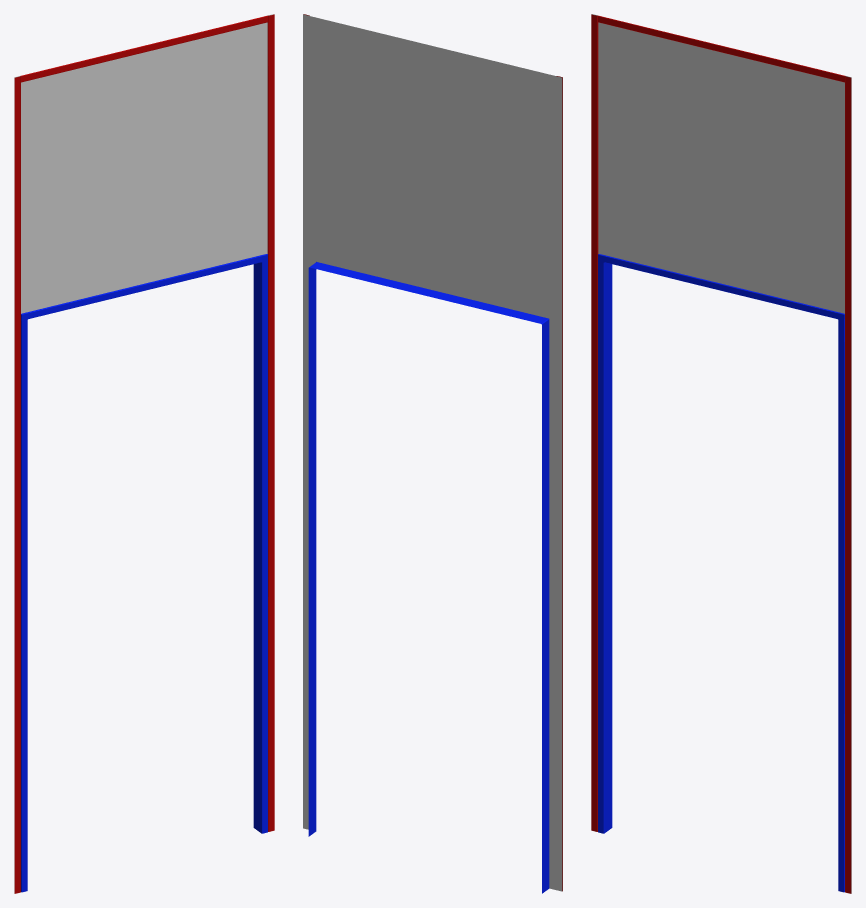
Rendered from Wall02cDoor.fbx.
3 renders of one model, left to right at view 1: azimuth 30°, elevation 25°; view 2: azimuth 150°, elevation 25°; view 3: azimuth 330°, elevation 25°, orthographic.
Visible parts, largest first — view 1: Wall02cDoor; view 2: Wall02cDoor; view 3: Wall02cDoor.
Boxes of the visible parts, x1,y1,x2,y2 form: Wall02cDoor: (14,14,274,893); Wall02cDoor: (303,14,562,893); Wall02cDoor: (591,14,851,893).
Bounding box in the file's own units: 100 × 5.5 × 300.
